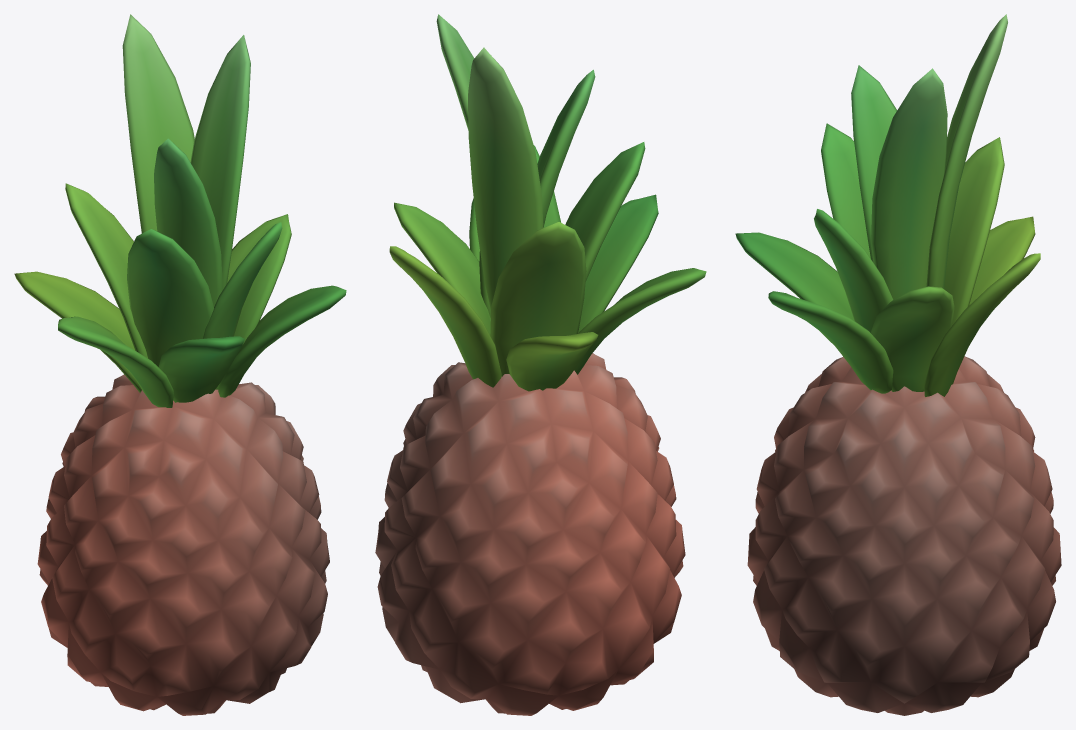
The model's file is pineapple_001.fbx.
The picture shows the model from 3 angles, left to right: view 1: azimuth 30°, elevation 25°; view 2: azimuth 150°, elevation 25°; view 3: azimuth 270°, elevation 25°; orthographic projection. The views are drawn at different scales.
Visible parts, largest first — view 1: pineapple_001; view 2: pineapple_001; view 3: pineapple_001.
Boxes of the visible parts, left/top/right/bottom form: pineapple_001: left=14, top=14, right=346, bottom=715; pineapple_001: left=375, top=14, right=706, bottom=715; pineapple_001: left=735, top=14, right=1061, bottom=715.
Bounding box in the file's own units: 13.39 × 13.22 × 30.43.
